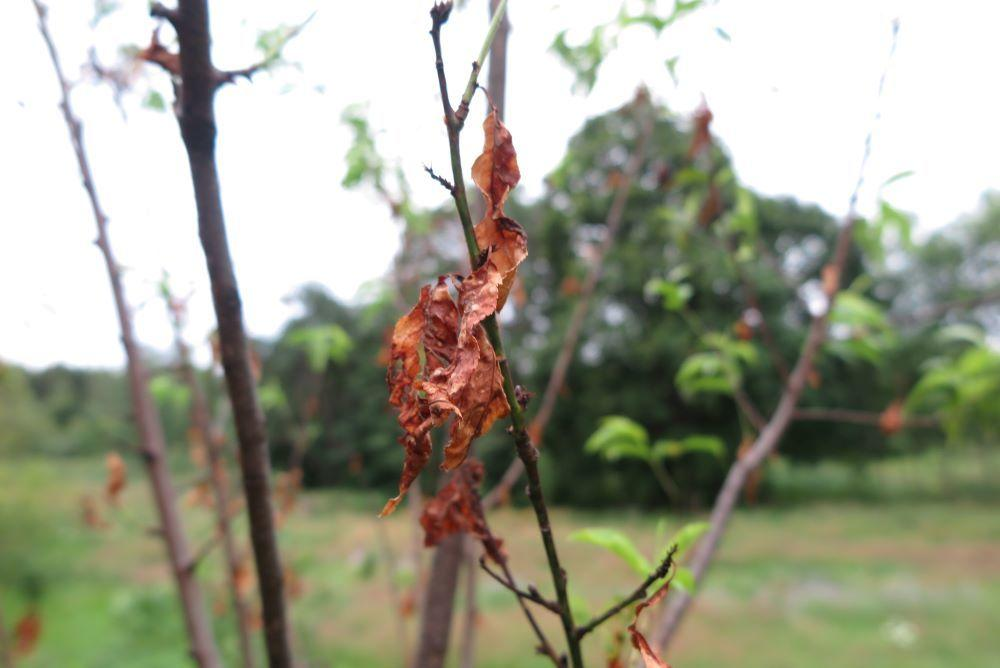moliniosis: (386, 110, 540, 561)
